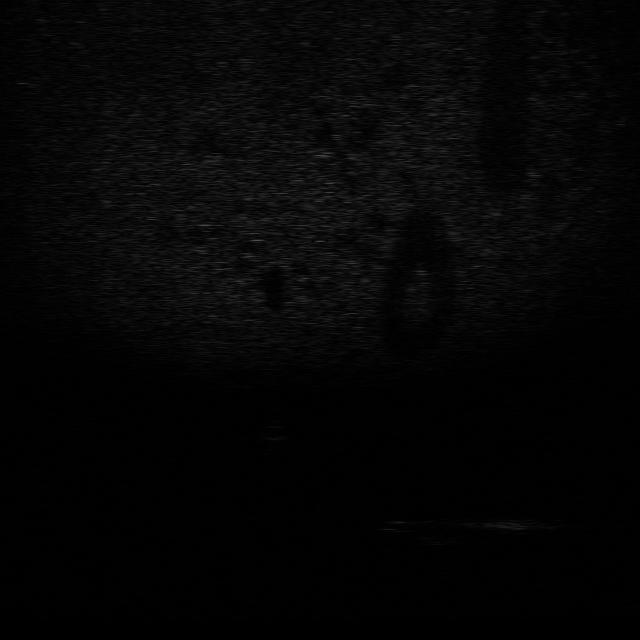ball: (252, 420, 294, 444)
metal bucket: (468, 517, 562, 533)
tyre: (384, 517, 464, 548)
